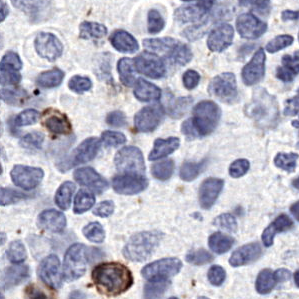Lymphocyte: (91, 261, 137, 295)
